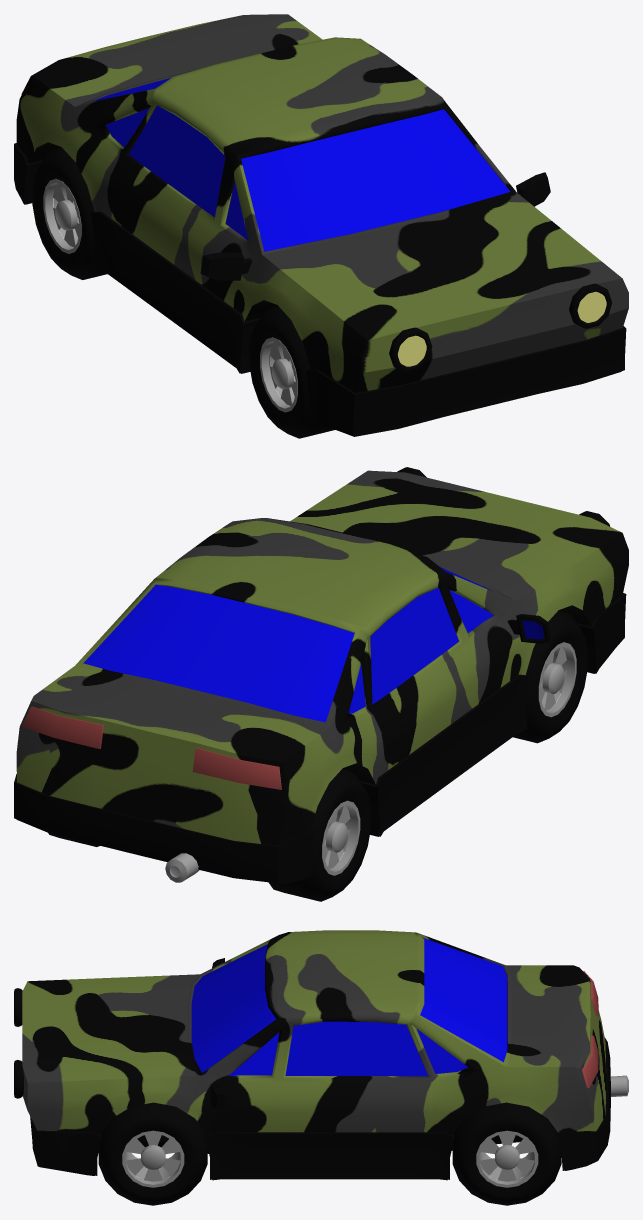
Rendered from Muscle Evolution1 Black ArmyBlackKaki Blue LightGrey.glb.
3 renders of one model, top to bottom at view 1: azimuth 30°, elevation 25°; view 2: azimuth 150°, elevation 25°; view 3: azimuth 270°, elevation 25°, orthographic. The views are drawn at different scales.
Visible parts, largest first — view 1: evo1_body4_f1_dupl, evo1_sill0_f1_dupl, evo1_frontGlass_f1_dupl, evo1_glasseBigR_f1_dupl, evo1_tire_rf_f1_dupl, evo1_tire_rf1_f1_dupl, evo1_rim_A_rb_f1_dupl, evo1_rim_A_rf_f1_dupl, evo1_mirorR3_f1_dupl, evo1_blockLightR_f1_dupl, evo1_blockLightL_f1_dupl, evo1_mirorL3_f1_dupl (+4 smaller); view 2: evo1_body4_f1_dupl, evo1_sill0_f1_dupl, evo1_BackGlassGlass_f1_dupl, evo1_glasseBigR_f1_dupl, evo1_tire_rf_f1_dupl, evo1_tire_rf1_f1_dupl, evo1_rim_A_rf_f1_dupl, evo1_rim_A_rb_f1_dupl, evo1_redlightR2_f1_dupl, evo1_redlightL2_f1_dupl, evo1_glassfR_f1_dupl, evo1_pipe1_f1_dupl (+1 smaller); view 3: evo1_body4_f1_dupl, evo1_sill0_f1_dupl, evo1_BackGlassGlass_f1_dupl, evo1_glasseBigL_f1_dupl, evo1_frontGlass_f1_dupl, evo1_tire_lb_f1_dupl, evo1_tire_lf_f1_dupl, evo1_rim_A_lf_f1_dupl, evo1_rim_A_lb_f1_dupl, evo1_glassfL_f1_dupl, evo1_glassbL_f1_dupl, evo1_GroundBody_f1_dupl (+1 smaller).
Part boxes in pixels (x1,y1,x2,y2): evo1_body4_f1_dupl: (16, 14, 628, 392); evo1_sill0_f1_dupl: (14, 143, 626, 436); evo1_frontGlass_f1_dupl: (241, 109, 510, 251); evo1_glasseBigR_f1_dupl: (128, 105, 225, 217); evo1_tire_rf_f1_dupl: (32, 147, 107, 279); evo1_tire_rf1_f1_dupl: (249, 306, 334, 438); evo1_rim_A_rb_f1_dupl: (43, 179, 81, 253); evo1_rim_A_rf_f1_dupl: (260, 337, 297, 412); evo1_mirorR3_f1_dupl: (200, 252, 252, 280); evo1_blockLightR_f1_dupl: (389, 327, 432, 372); evo1_blockLightL_f1_dupl: (569, 283, 612, 328); evo1_mirorL3_f1_dupl: (516, 172, 550, 206); evo1_body4_f1_dupl: (16, 470, 628, 845); evo1_sill0_f1_dupl: (14, 593, 626, 882); evo1_BackGlassGlass_f1_dupl: (83, 584, 354, 722); evo1_glasseBigR_f1_dupl: (370, 587, 458, 704); evo1_tire_rf_f1_dupl: (268, 769, 371, 901); evo1_tire_rf1_f1_dupl: (513, 610, 587, 743); evo1_rim_A_rf_f1_dupl: (538, 642, 576, 717); evo1_rim_A_rb_f1_dupl: (322, 800, 360, 875); evo1_redlightR2_f1_dupl: (192, 748, 281, 789); evo1_redlightL2_f1_dupl: (22, 706, 103, 748); evo1_glassfR_f1_dupl: (449, 590, 493, 632); evo1_pipe1_f1_dupl: (165, 853, 199, 882); evo1_body4_f1_dupl: (22, 930, 606, 1152); evo1_sill0_f1_dupl: (30, 1037, 610, 1179); evo1_BackGlassGlass_f1_dupl: (420, 937, 507, 1061); evo1_glasseBigL_f1_dupl: (285, 1021, 427, 1076); evo1_frontGlass_f1_dupl: (191, 944, 276, 1073); evo1_tire_lb_f1_dupl: (452, 1102, 561, 1205); evo1_tire_lf_f1_dupl: (98, 1102, 207, 1205); evo1_rim_A_lf_f1_dupl: (122, 1130, 184, 1187); evo1_rim_A_lb_f1_dupl: (476, 1130, 538, 1187); evo1_glassfL_f1_dupl: (228, 1032, 279, 1075); evo1_glassbL_f1_dupl: (416, 1028, 467, 1073); evo1_GroundBody_f1_dupl: (40, 1140, 594, 1180).
Bounding box in the file's own units: 177 × 112 × 331.
7 materials, 1 textured.
